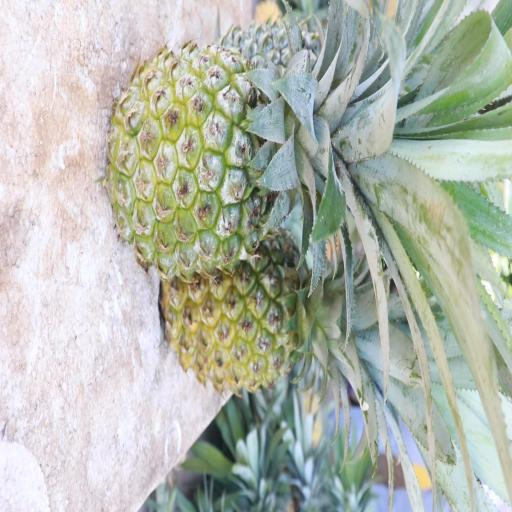------------------------------: (101, 38, 402, 286)
Pineapple - v8 v1: (157, 218, 393, 402)
